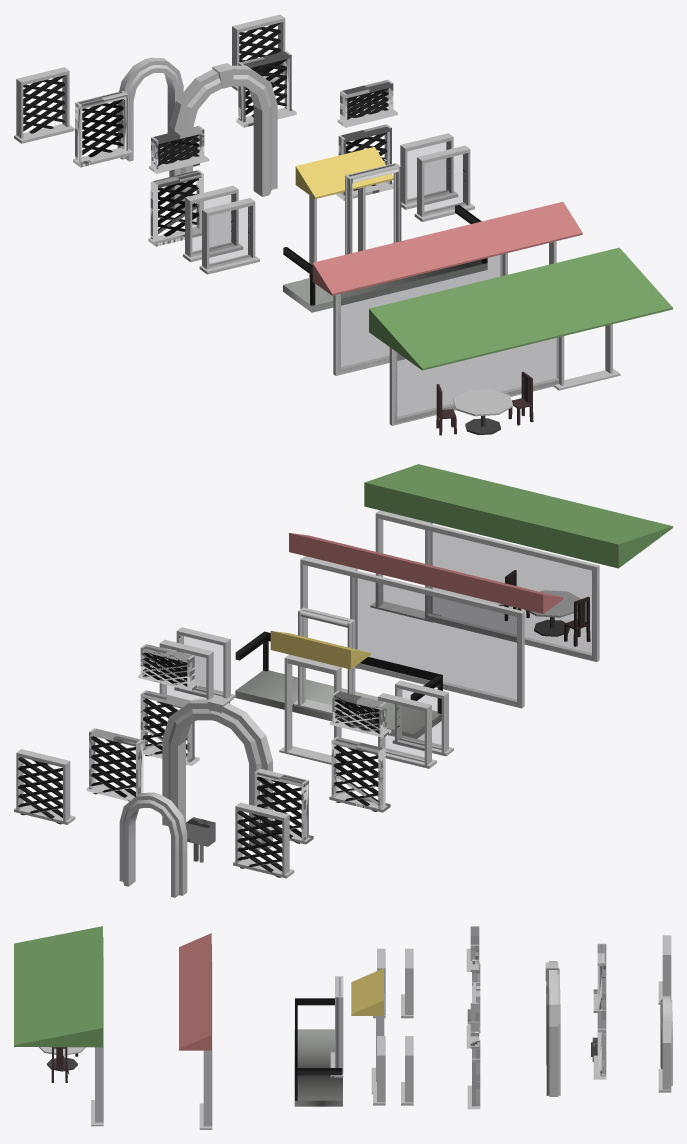
The model's file is Facciate0.fbx.
3 renders of one model, top to bottom at view 1: azimuth 30°, elevation 25°; view 2: azimuth 150°, elevation 25°; view 3: azimuth 270°, elevation 25°, orthographic. The views are drawn at different scales.
Parts seen in each view (by area): view 1: Facciata_b6, Facciata_b5, Facciata_a0, Facciata_b4, Finestra_b1, Facciata_b3, facciata_b2, Facciata_m0, VetroFacciata_b4_1, Facciata_m3, VetroFacciata_m3; view 2: Facciata_b6, Facciata_b5, Finestra_b1, Facciata_a0, Facciata_b4, Facciata_m0, facciata_b2, Facciata_b3, VetroFacciata_m3, Facciata_m3, VetroFacciata_b4_1; view 3: Facciata_b6, Facciata_m0, Facciata_b5, Facciata_b4, Facciata_a0, Facciata_b3, Finestra_b1, facciata_b2, Facciata_m3.
Part boxes in pixels (<box>): Facciata_b6: <box>369,247,672,435</box>; Facciata_b5: <box>312,201,582,375</box>; Facciata_a0: <box>148,79,397,246</box>; Facciata_b4: <box>199,145,474,279</box>; Finestra_b1: <box>14,14,285,161</box>; Facciata_b3: <box>169,63,277,213</box>; facciata_b2: <box>73,51,296,167</box>; Facciata_m0: <box>283,163,487,312</box>; VetroFacciata_b4_1: <box>210,154,467,267</box>; Facciata_m3: <box>183,133,458,262</box>; VetroFacciata_m3: <box>193,141,450,255</box>; Facciata_b6: <box>364,464,672,661</box>; Facciata_b5: <box>289,533,563,708</box>; Finestra_b1: <box>14,749,294,897</box>; Facciata_a0: <box>138,644,391,812</box>; Facciata_b4: <box>174,627,453,766</box>; Facciata_m0: <box>235,607,442,738</box>; facciata_b2: <box>86,728,313,862</box>; Facciata_b3: <box>162,696,272,850</box>; VetroFacciata_m3: <box>167,656,423,759</box>; Facciata_m3: <box>157,639,436,768</box>; VetroFacciata_b4_1: <box>184,637,440,746</box>; Facciata_b6: <box>14,926,103,1126</box>; Facciata_m0: <box>294,976,343,1106</box>; Facciata_b5: <box>179,933,212,1129</box>; Facciata_b4: <box>351,948,385,1105</box>; Facciata_a0: <box>466,926,480,1109</box>; Facciata_b3: <box>545,961,560,1096</box>; Finestra_b1: <box>658,935,672,1092</box>; facciata_b2: <box>591,943,606,1079</box>; Facciata_m3: <box>401,948,413,1105</box>.
Bounding box in the file's own units: 642 × 297 × 1559.
